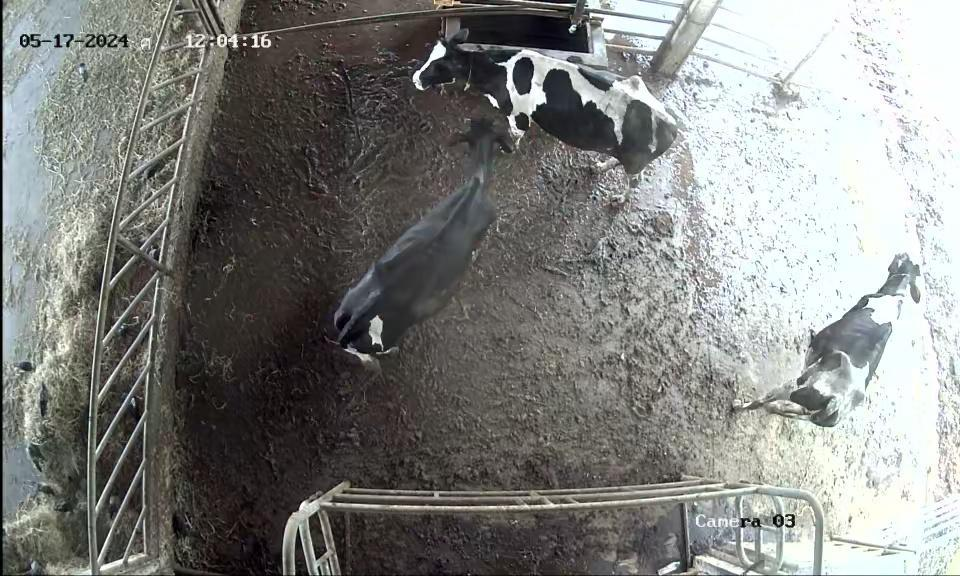stand: (292, 107, 547, 363), (729, 227, 927, 454), (408, 26, 688, 178)
